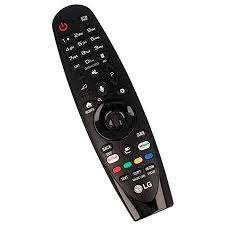remote control: (41, 1, 179, 225)
